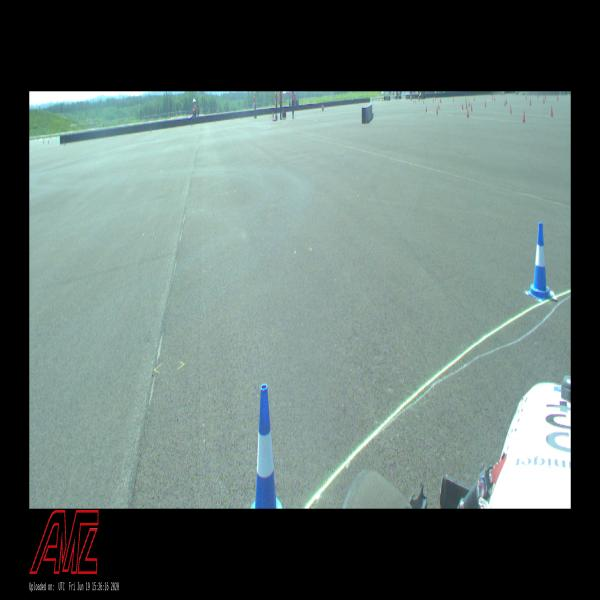blue_cone: (250, 384, 282, 508), (527, 222, 553, 301)
